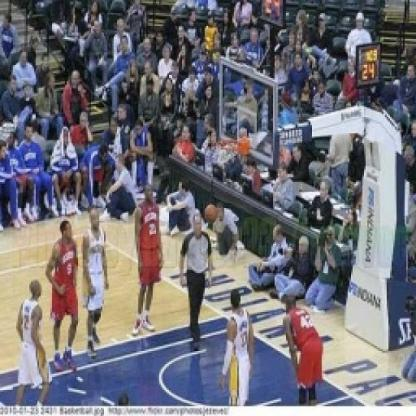basketball: (203, 200, 219, 224)
